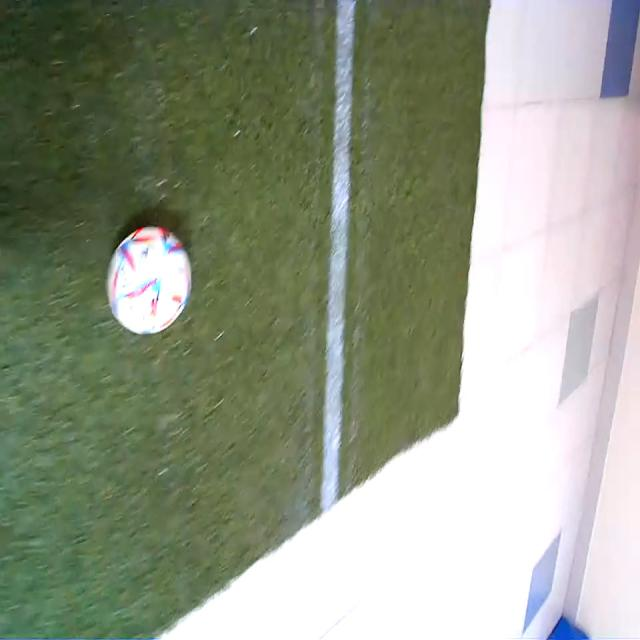ball: (108, 225, 192, 334)
